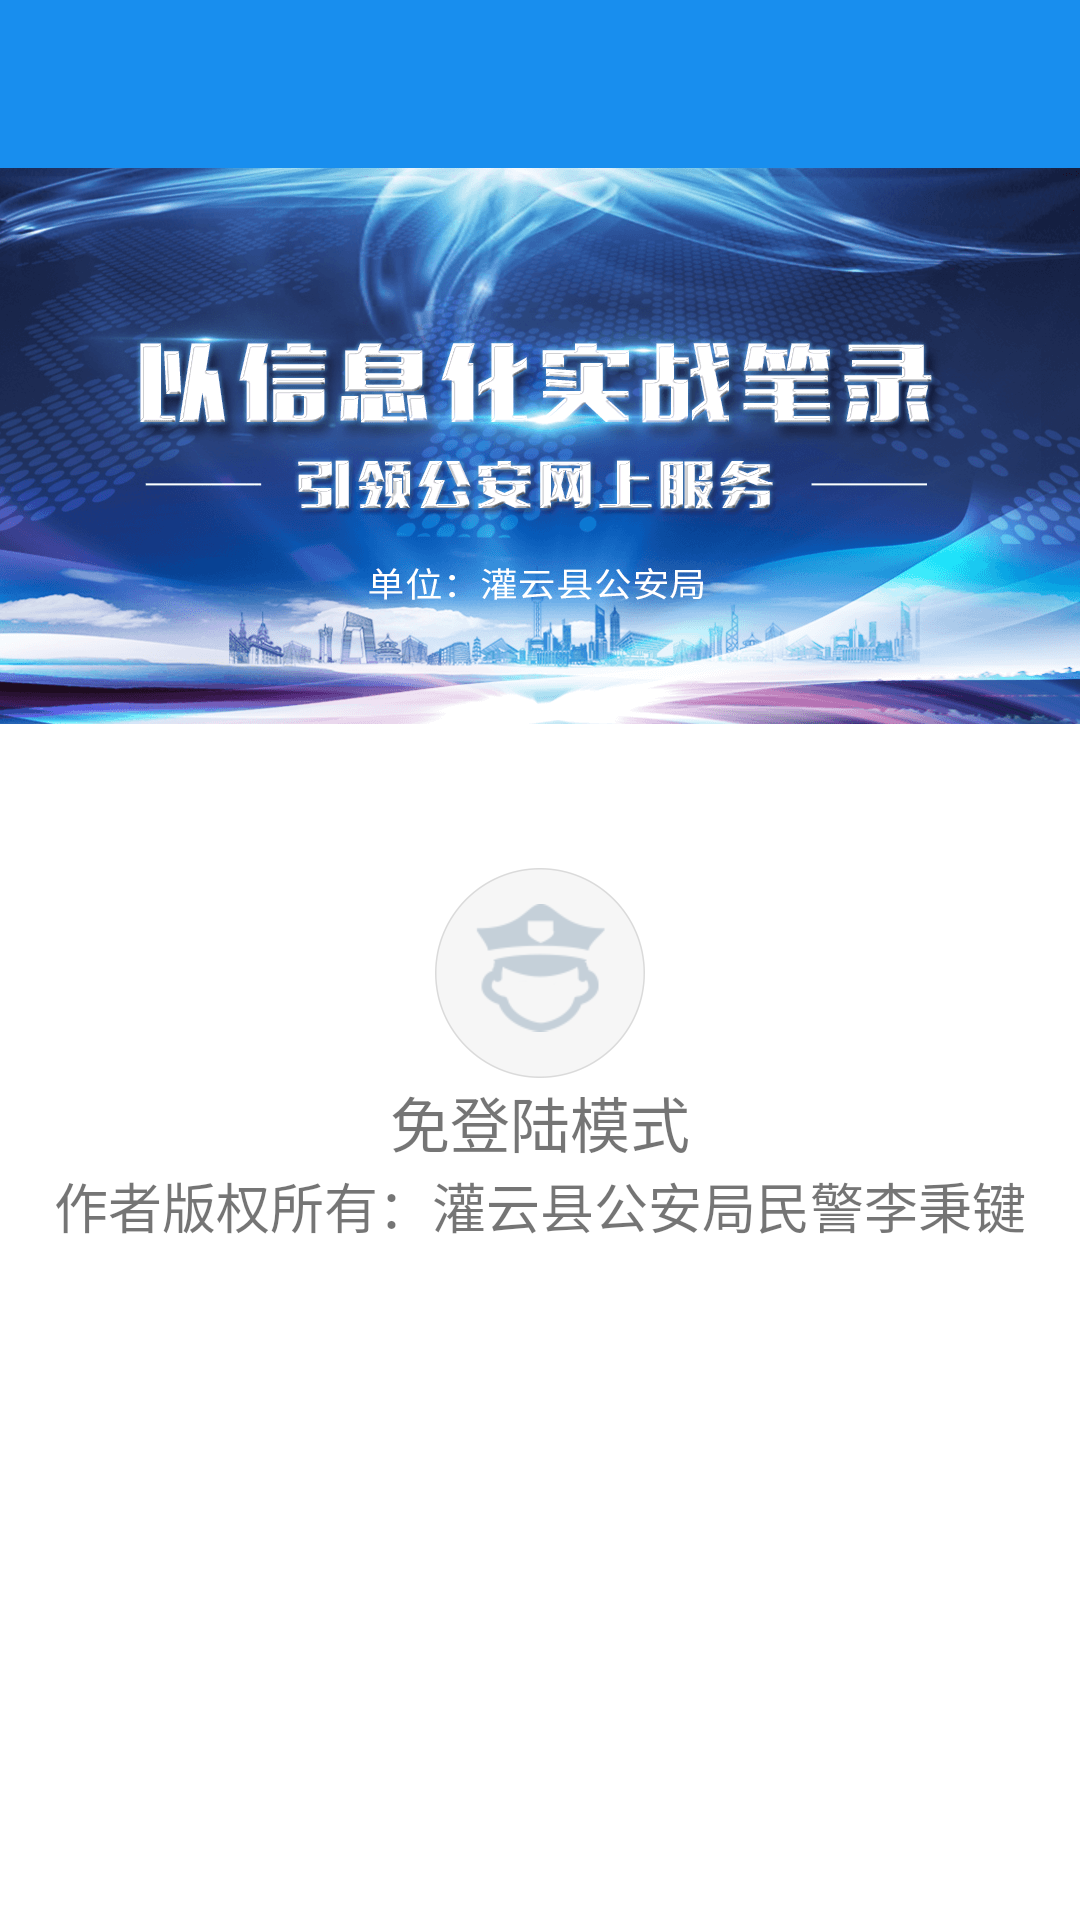

Icon bounding boxes for this 1080*1920 phone screenshot, format (x1, y1, x2, y2):
user: (435, 868, 645, 1078)
